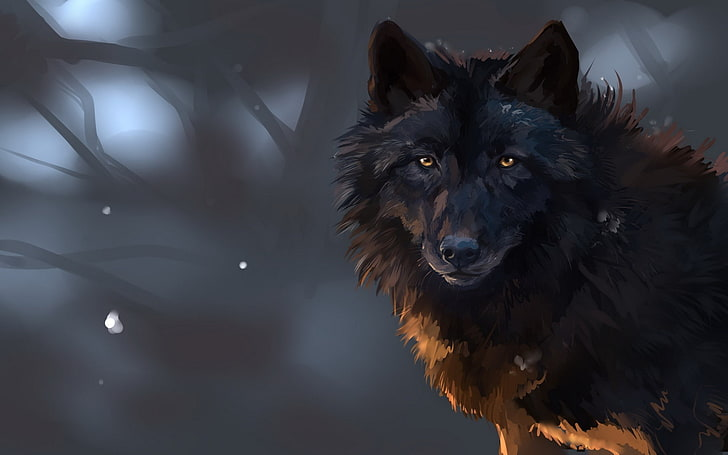Lobo: (343, 17, 669, 403)
